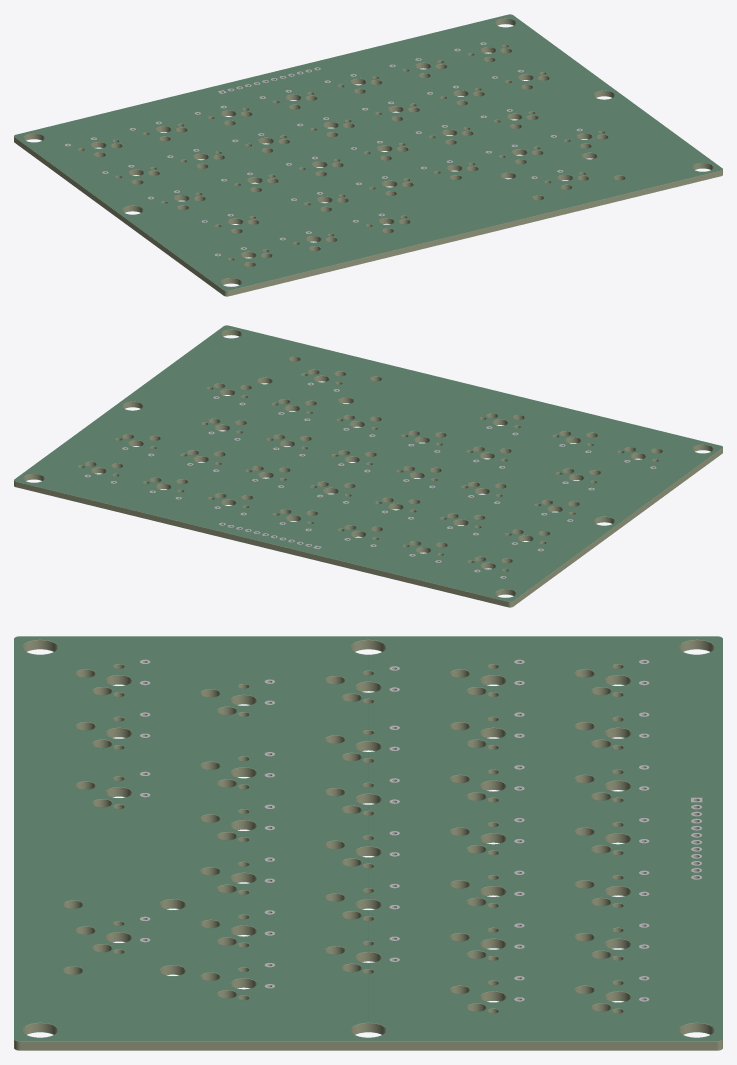
The model's file is left.glb.
3 renders of one model, top to bottom at view 1: azimuth 30°, elevation 25°; view 2: azimuth 150°, elevation 25°; view 3: azimuth 270°, elevation 25°, orthographic. The views are drawn at different scales.
Visible parts, largest first — view 1: =>[0:1:1:5], =>[0:1:1:3], =>[0:1:1:2], =>[0:1:1:4]; view 2: =>[0:1:1:5], =>[0:1:1:3], =>[0:1:1:2], =>[0:1:1:4]; view 3: =>[0:1:1:5], =>[0:1:1:3], =>[0:1:1:2].
Part boxes in pixels (x1=…): =>[0:1:1:5]: x1=14, y1=15, x2=722, y2=296; =>[0:1:1:3]: x1=14, y1=14, x2=722, y2=290; =>[0:1:1:2]: x1=65, y1=42, x2=582, y2=256; =>[0:1:1:4]: x1=14, y1=24, x2=722, y2=296; =>[0:1:1:5]: x1=14, y1=326, x2=722, y2=607; =>[0:1:1:3]: x1=14, y1=325, x2=722, y2=601; =>[0:1:1:2]: x1=85, y1=382, x2=656, y2=578; =>[0:1:1:4]: x1=14, y1=335, x2=722, y2=607; =>[0:1:1:5]: x1=14, y1=637, x2=722, y2=1050; =>[0:1:1:3]: x1=14, y1=636, x2=722, y2=1041; =>[0:1:1:2]: x1=140, y1=659, x2=702, y2=1001.
Bounding box in the file's own units: 0.1464 × 0.00161 × 0.1082.
